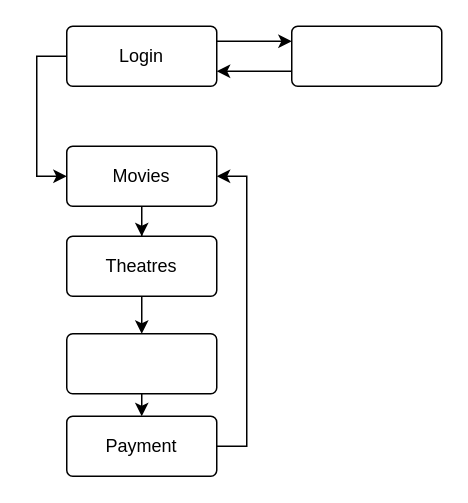
Image size: 468x503. Some labels were removed from this diagram. Here are the shapes that lost their labels. From the top down, the centre of each, then its label:
At [366,55]: "Register".
At [141,363]: "Seat Selection".
